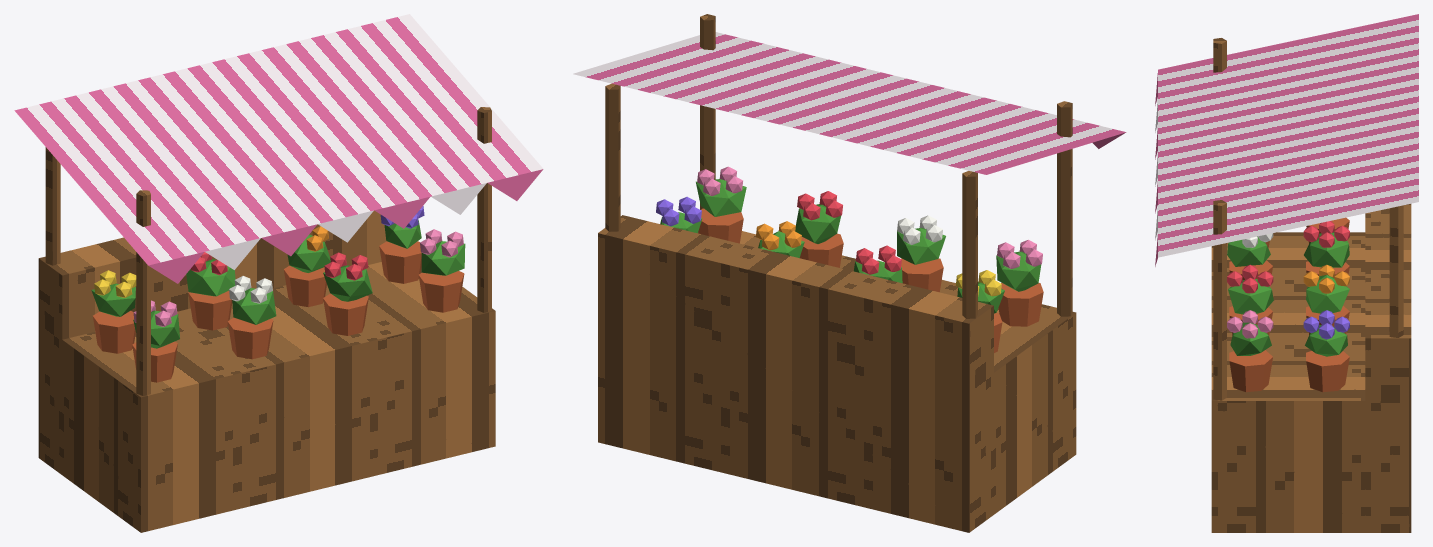
The model's file is stall_flowers.glb.
3 views of the same model, side by side, from view 1: azimuth 30°, elevation 25°; view 2: azimuth 150°, elevation 25°; view 3: azimuth 270°, elevation 25° (orthographic). The views are drawn at different scales.
Parts seen in each view (by area): view 1: stall_flowers; view 2: stall_flowers; view 3: stall_flowers.
Part boxes in pixels (x1,y1,x2,y2): stall_flowers: (14,14,543,532); stall_flowers: (573,14,1126,532); stall_flowers: (1155,14,1418,532).
Size of the model in its own units: 2.9 by 2.45 by 1.72.
12 materials, 2 textured.
